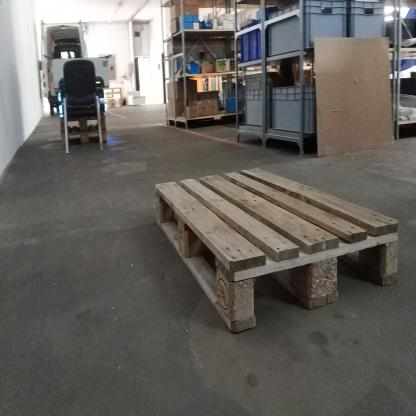BoxFace: (151, 161, 402, 342)
